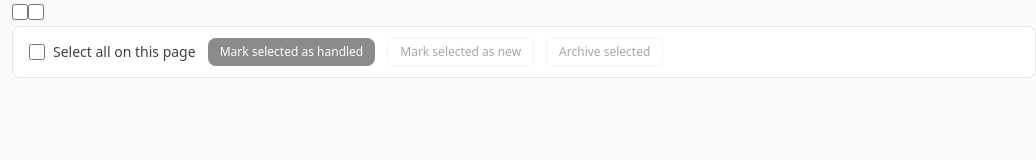
BulkActionBar — buttons enable once an inquiry is selected › enables 'Mark selected as handled' after checking one item
Click the 1st checkbox named "Select inquiry". click: point(20, 12)
box: [12, 4, 28, 20]
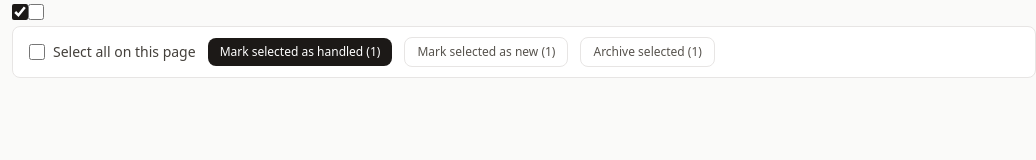
Now the button "Mark selected as handled (1)" is enabled, box [208, 38, 392, 66]
